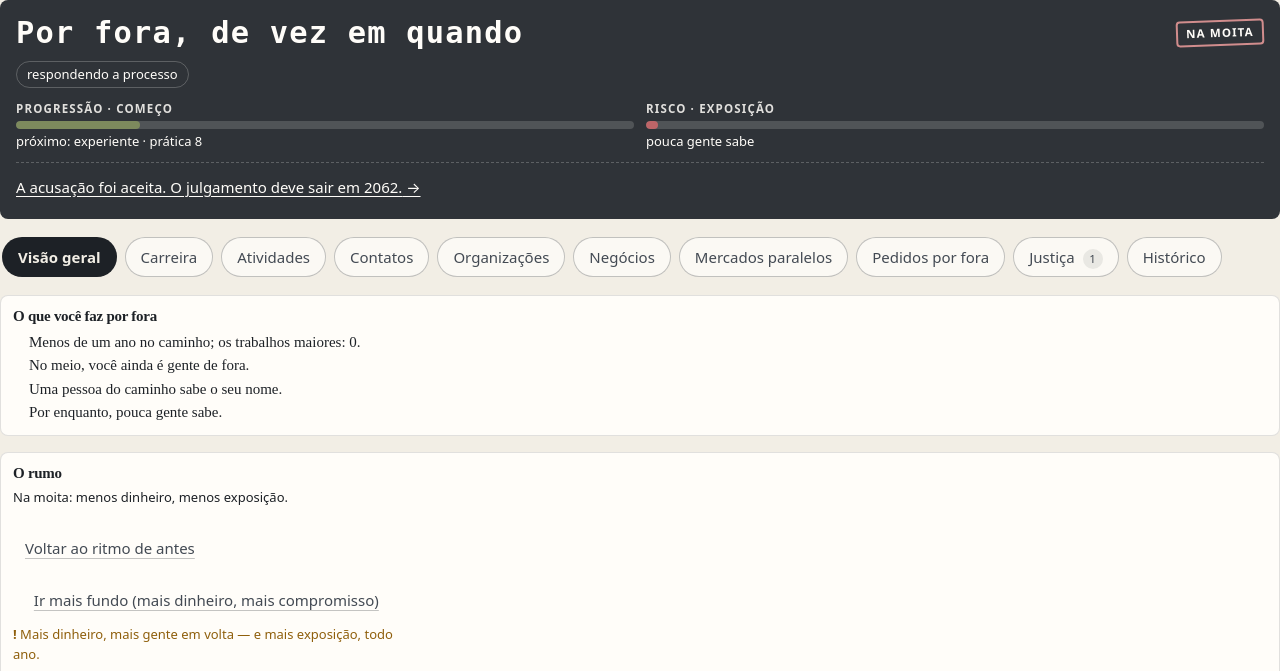
Test case: REWORK 12.3 · telas › Justiça: a ficha diz quem defende e quem julga; o "por fora dos autos" é separado e marcado como ilegal
Click the tab "Justiça 1".
click(1066, 257)  # box [1013,237,1119,277]
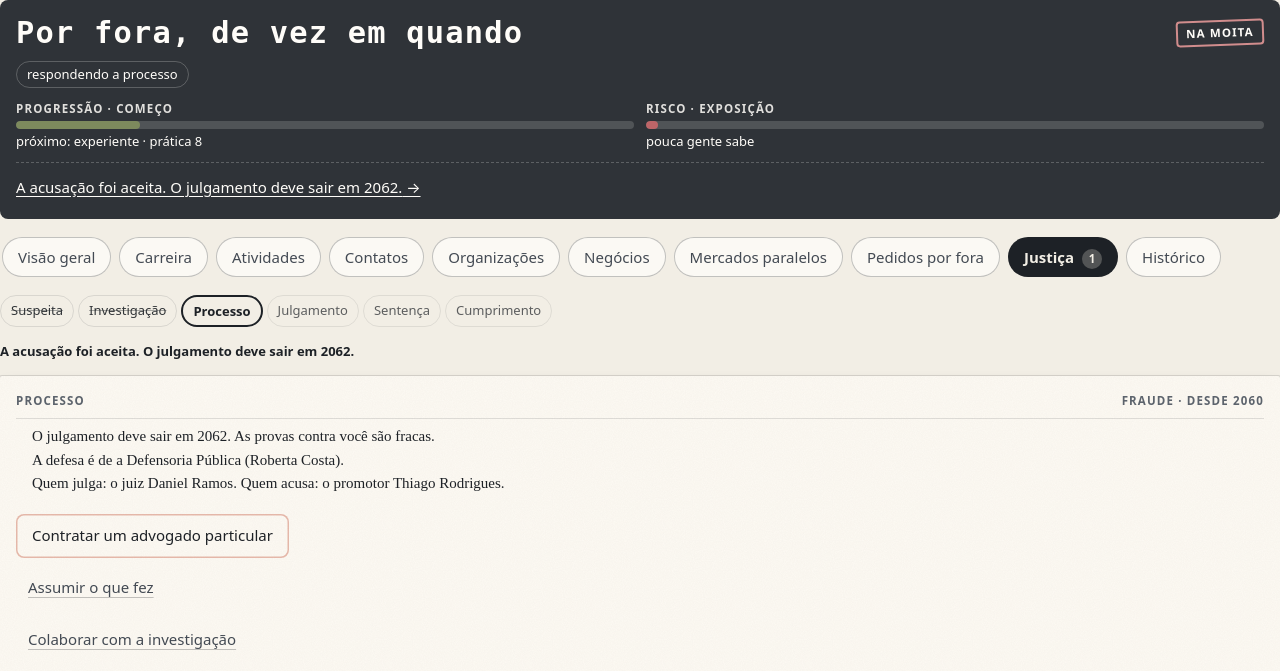
Expected: the list item "Quem julga:" is shown, [32,475,505,491]
Expected: the list item "A defesa é de a Defensoria Pública (Roberta Costa)." is shown, [32,452,344,468]
Expected: the button "Contratar um advogado particular" is shown, [16,514,289,558]
